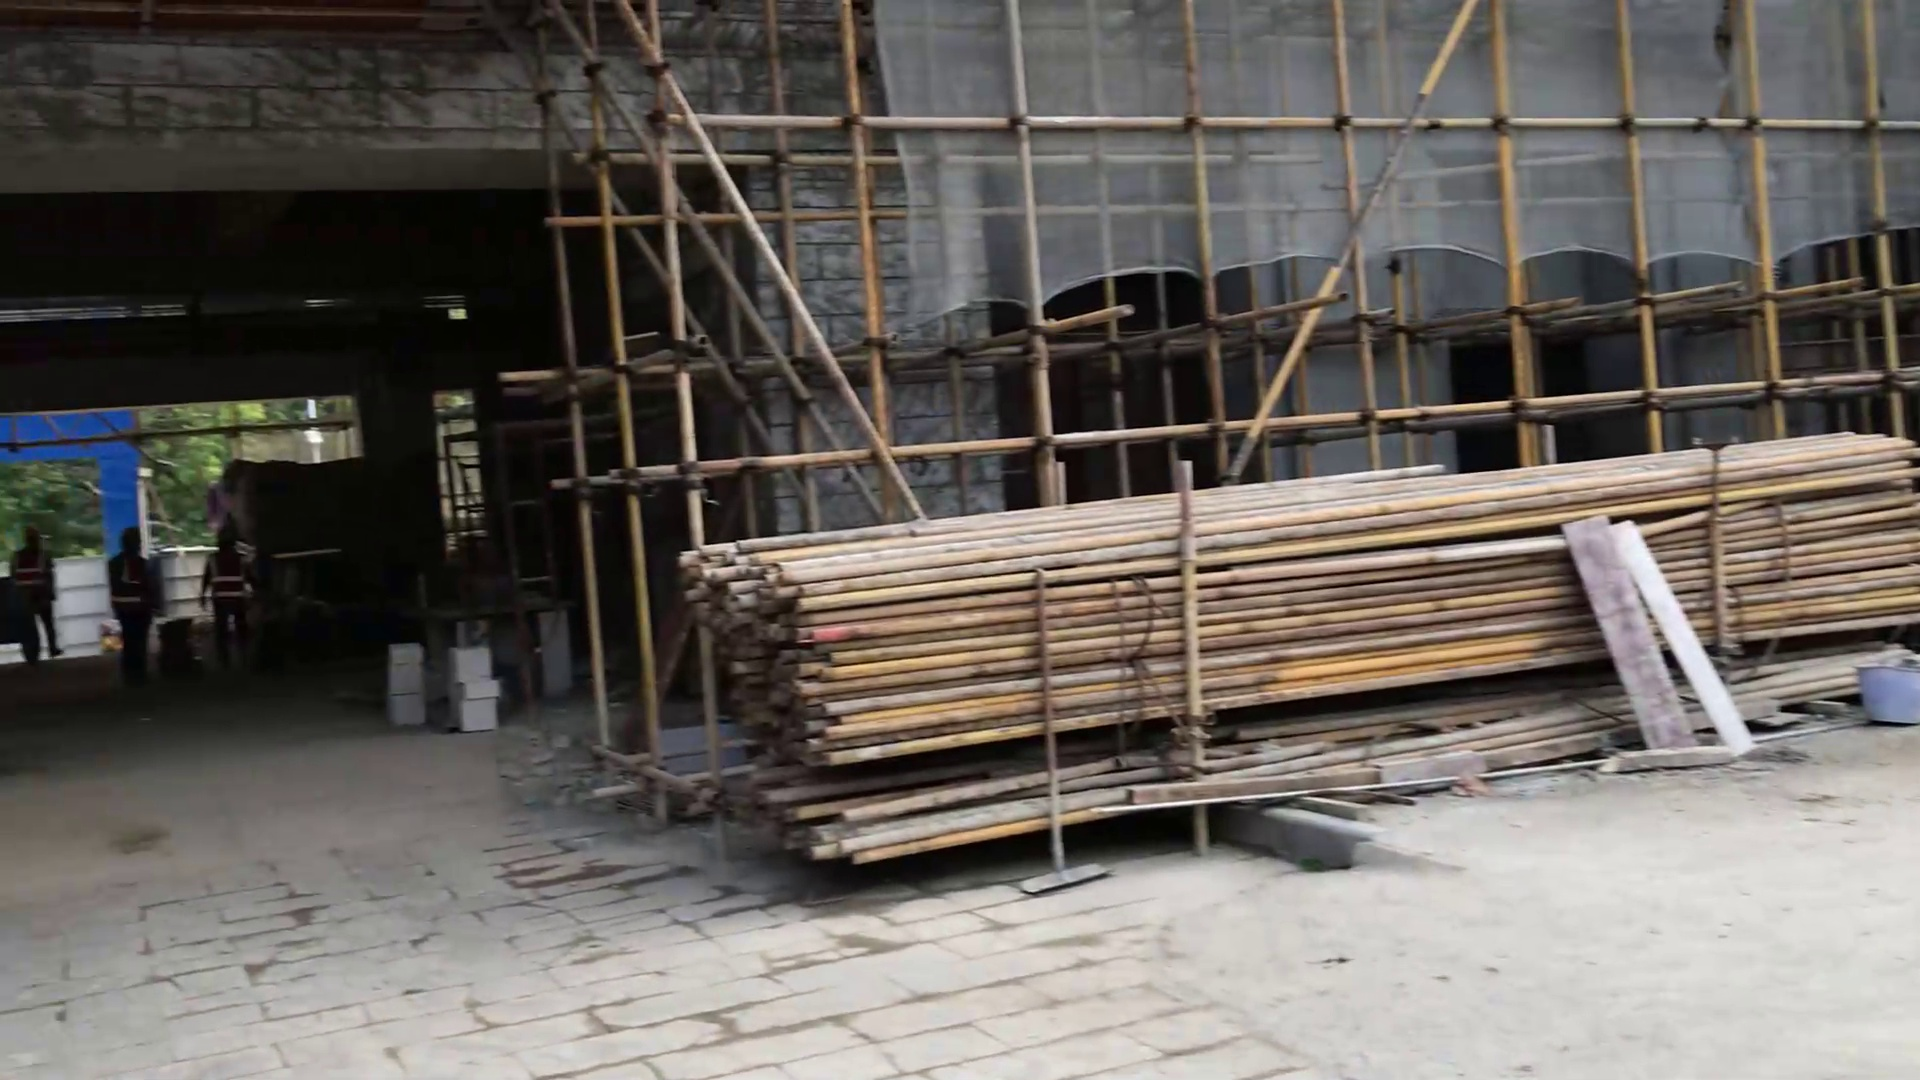person: (97, 528, 174, 698), (193, 517, 263, 685), (3, 519, 74, 681)
vest: (101, 548, 151, 619), (199, 554, 249, 615), (3, 552, 60, 600)
